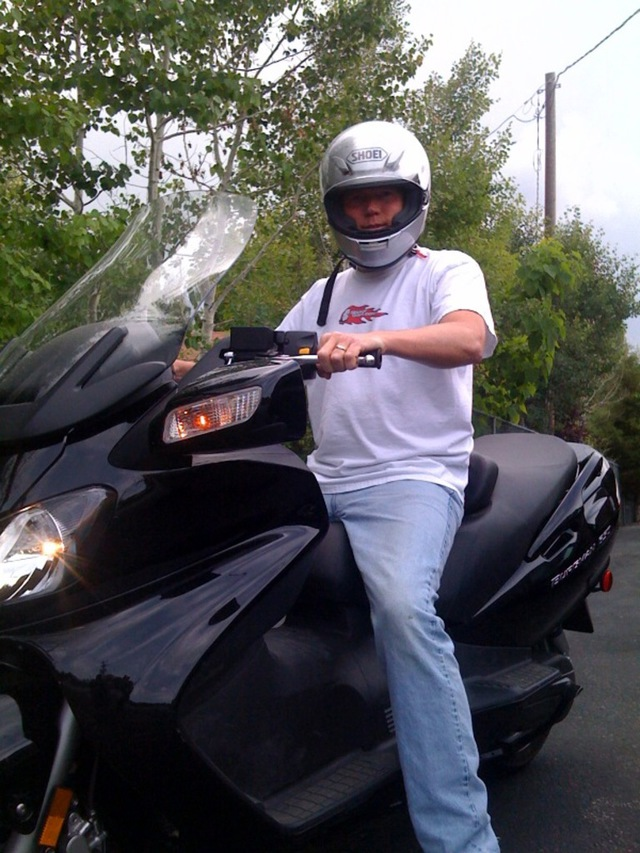helmet: (318, 130, 441, 257)
